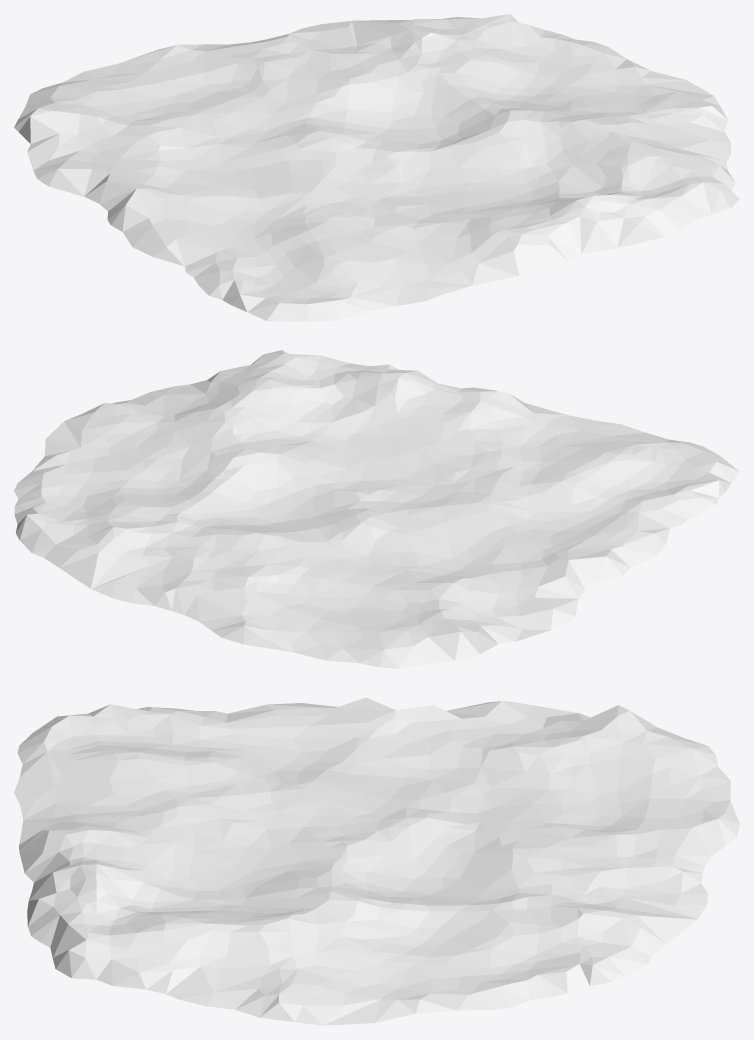
File: DWE_Ground_01A.fbx
3 renders of one model, top to bottom at view 1: azimuth 30°, elevation 25°; view 2: azimuth 150°, elevation 25°; view 3: azimuth 270°, elevation 25°, orthographic. The views are drawn at different scales.
Visible parts, largest first — view 1: DWE_Ground_01A; view 2: DWE_Ground_01A; view 3: DWE_Ground_01A.
Boxes of the visible parts, box(x1,y1,x2,y2) form: DWE_Ground_01A: box(14, 14, 739, 321); DWE_Ground_01A: box(14, 350, 739, 668); DWE_Ground_01A: box(14, 697, 739, 1025).
Bounding box in the file's own units: 1865 × 85.53 × 1769.
